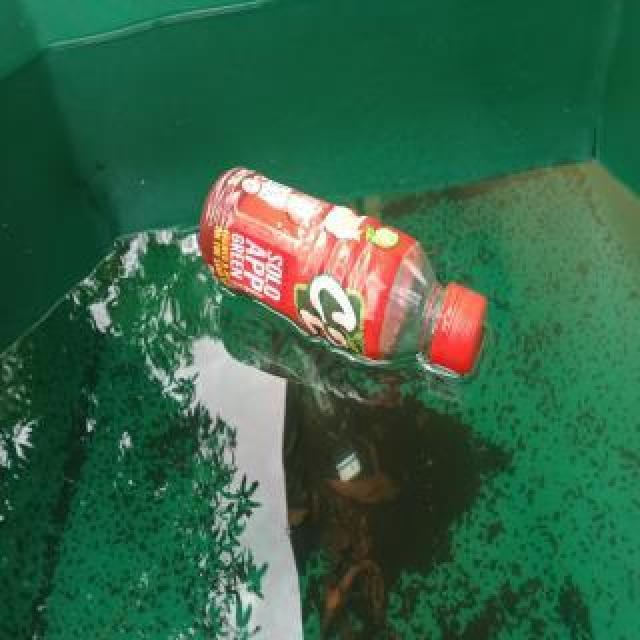bottle: (197, 161, 489, 379)
